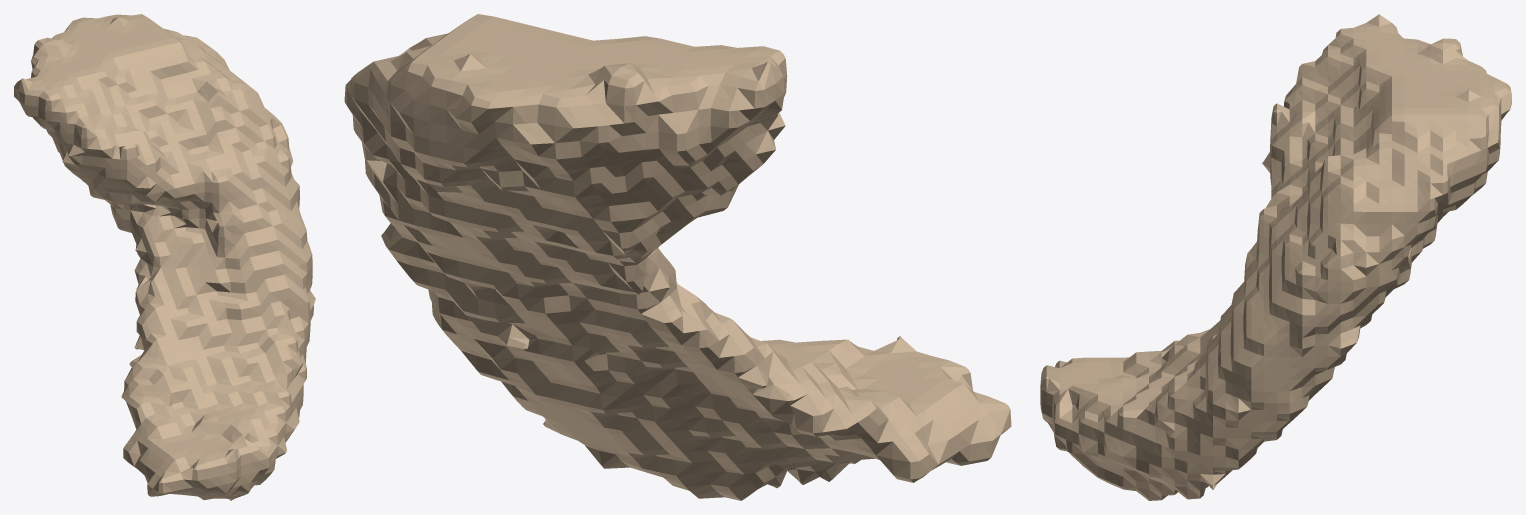
File: r_hippocampus.glb
3 renders of one model, left to right at view 1: azimuth 30°, elevation 25°; view 2: azimuth 150°, elevation 25°; view 3: azimuth 270°, elevation 25°, orthographic. The views are drawn at different scales.
Visible parts, largest first — view 1: world; view 2: world; view 3: world.
Part boxes in pixels (left/top/right/bottom): world: left=14, top=14, right=315, bottom=500; world: left=344, top=14, right=1011, bottom=500; world: left=1040, top=14, right=1511, bottom=500.
Bounding box in the file's own units: 25.97 × 35.85 × 36.86.
